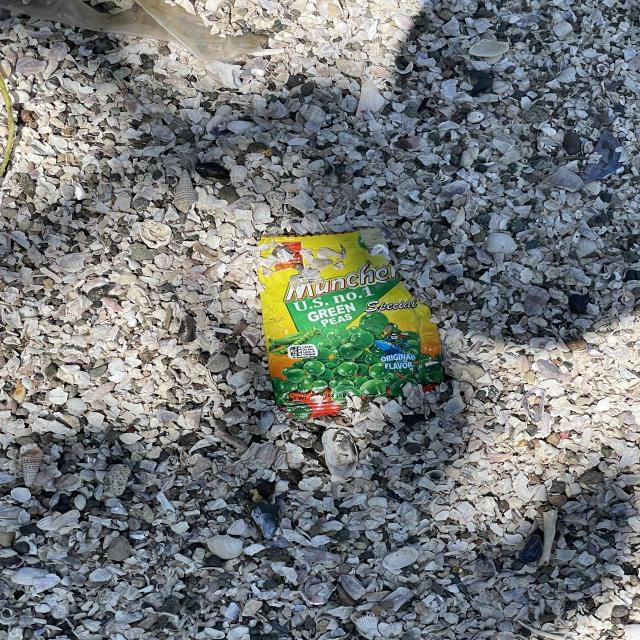plastic_waste: (258, 233, 453, 417)
